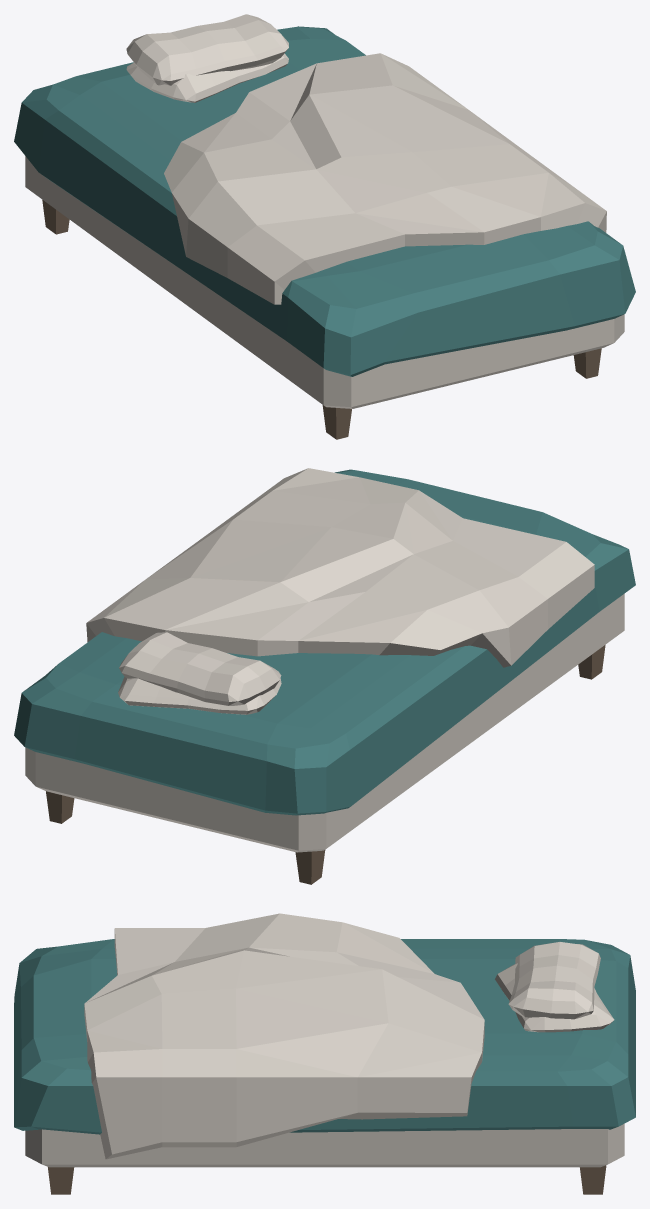
The model's file is SM_Prop_Bed_Single_02.fbx.
The picture shows the model from 3 angles, top to bottom: view 1: azimuth 30°, elevation 25°; view 2: azimuth 150°, elevation 25°; view 3: azimuth 270°, elevation 25°; orthographic projection. The views are drawn at different scales.
Parts seen in each view (by area): view 1: SM_Prop_Bed_Single_02; view 2: SM_Prop_Bed_Single_02; view 3: SM_Prop_Bed_Single_02.
Boxes of the visible parts, x1,y1,x2,y2 form: SM_Prop_Bed_Single_02: (14, 14, 635, 439); SM_Prop_Bed_Single_02: (14, 468, 635, 884); SM_Prop_Bed_Single_02: (14, 913, 635, 1194).
Size of the model in its own units: 161 by 84.48 by 276.
